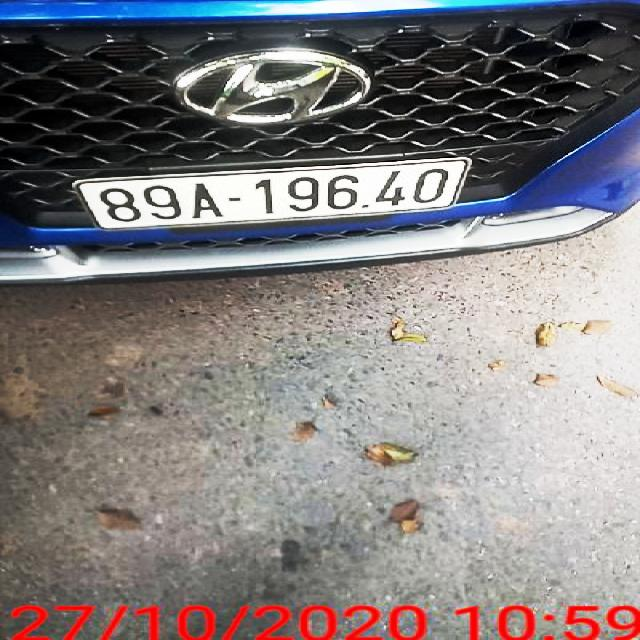license_plate: (79, 160, 467, 228)
